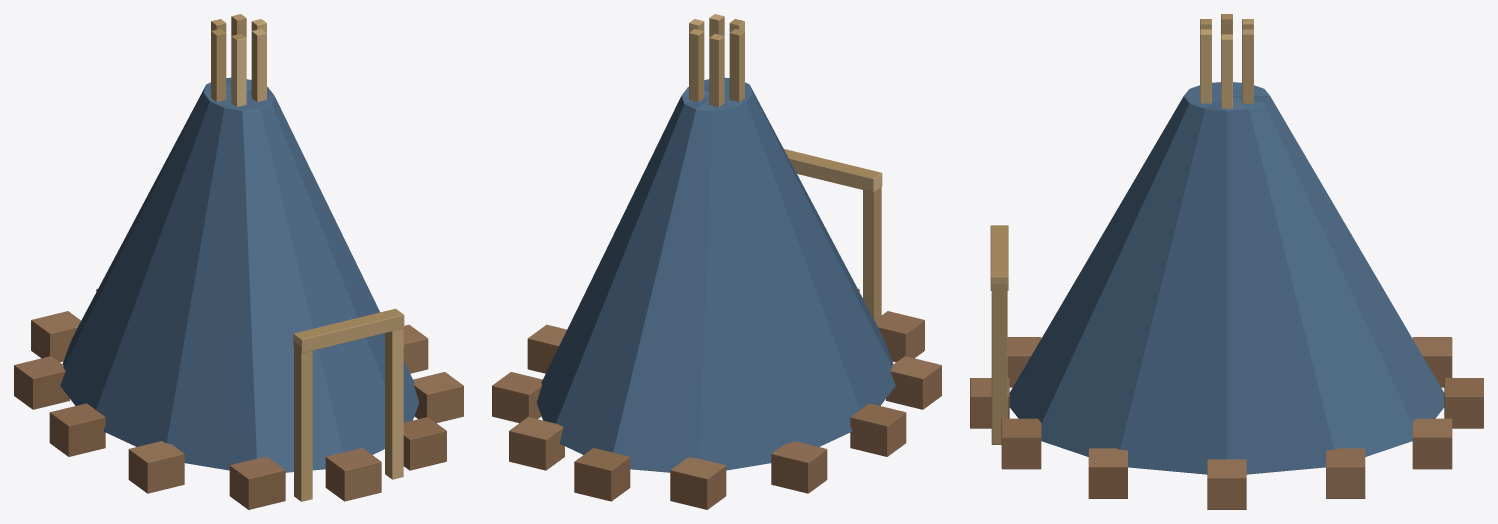
The model's file is House_Paleo_c.fbx.
3 views of the same model, side by side, from view 1: azimuth 30°, elevation 25°; view 2: azimuth 150°, elevation 25°; view 3: azimuth 270°, elevation 25° (orthographic). The views are drawn at different scales.
Parts seen in each view (by area): view 1: House_Paleo_c; view 2: House_Paleo_c; view 3: House_Paleo_c.
Boxes of the visible parts, x1,y1,x2,y2 form: House_Paleo_c: (14,14,463,509); House_Paleo_c: (492,14,941,509); House_Paleo_c: (970,14,1483,509).
Size of what is drawn, in the model's own units: 4.35 by 4.39 by 5.2.
